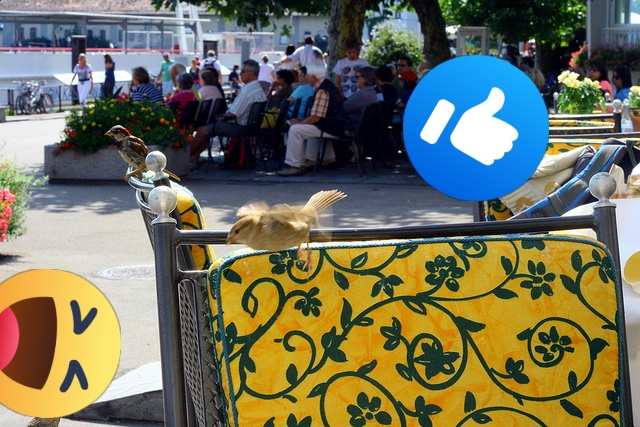haha: (0, 269, 121, 418)
like: (403, 55, 549, 201)
